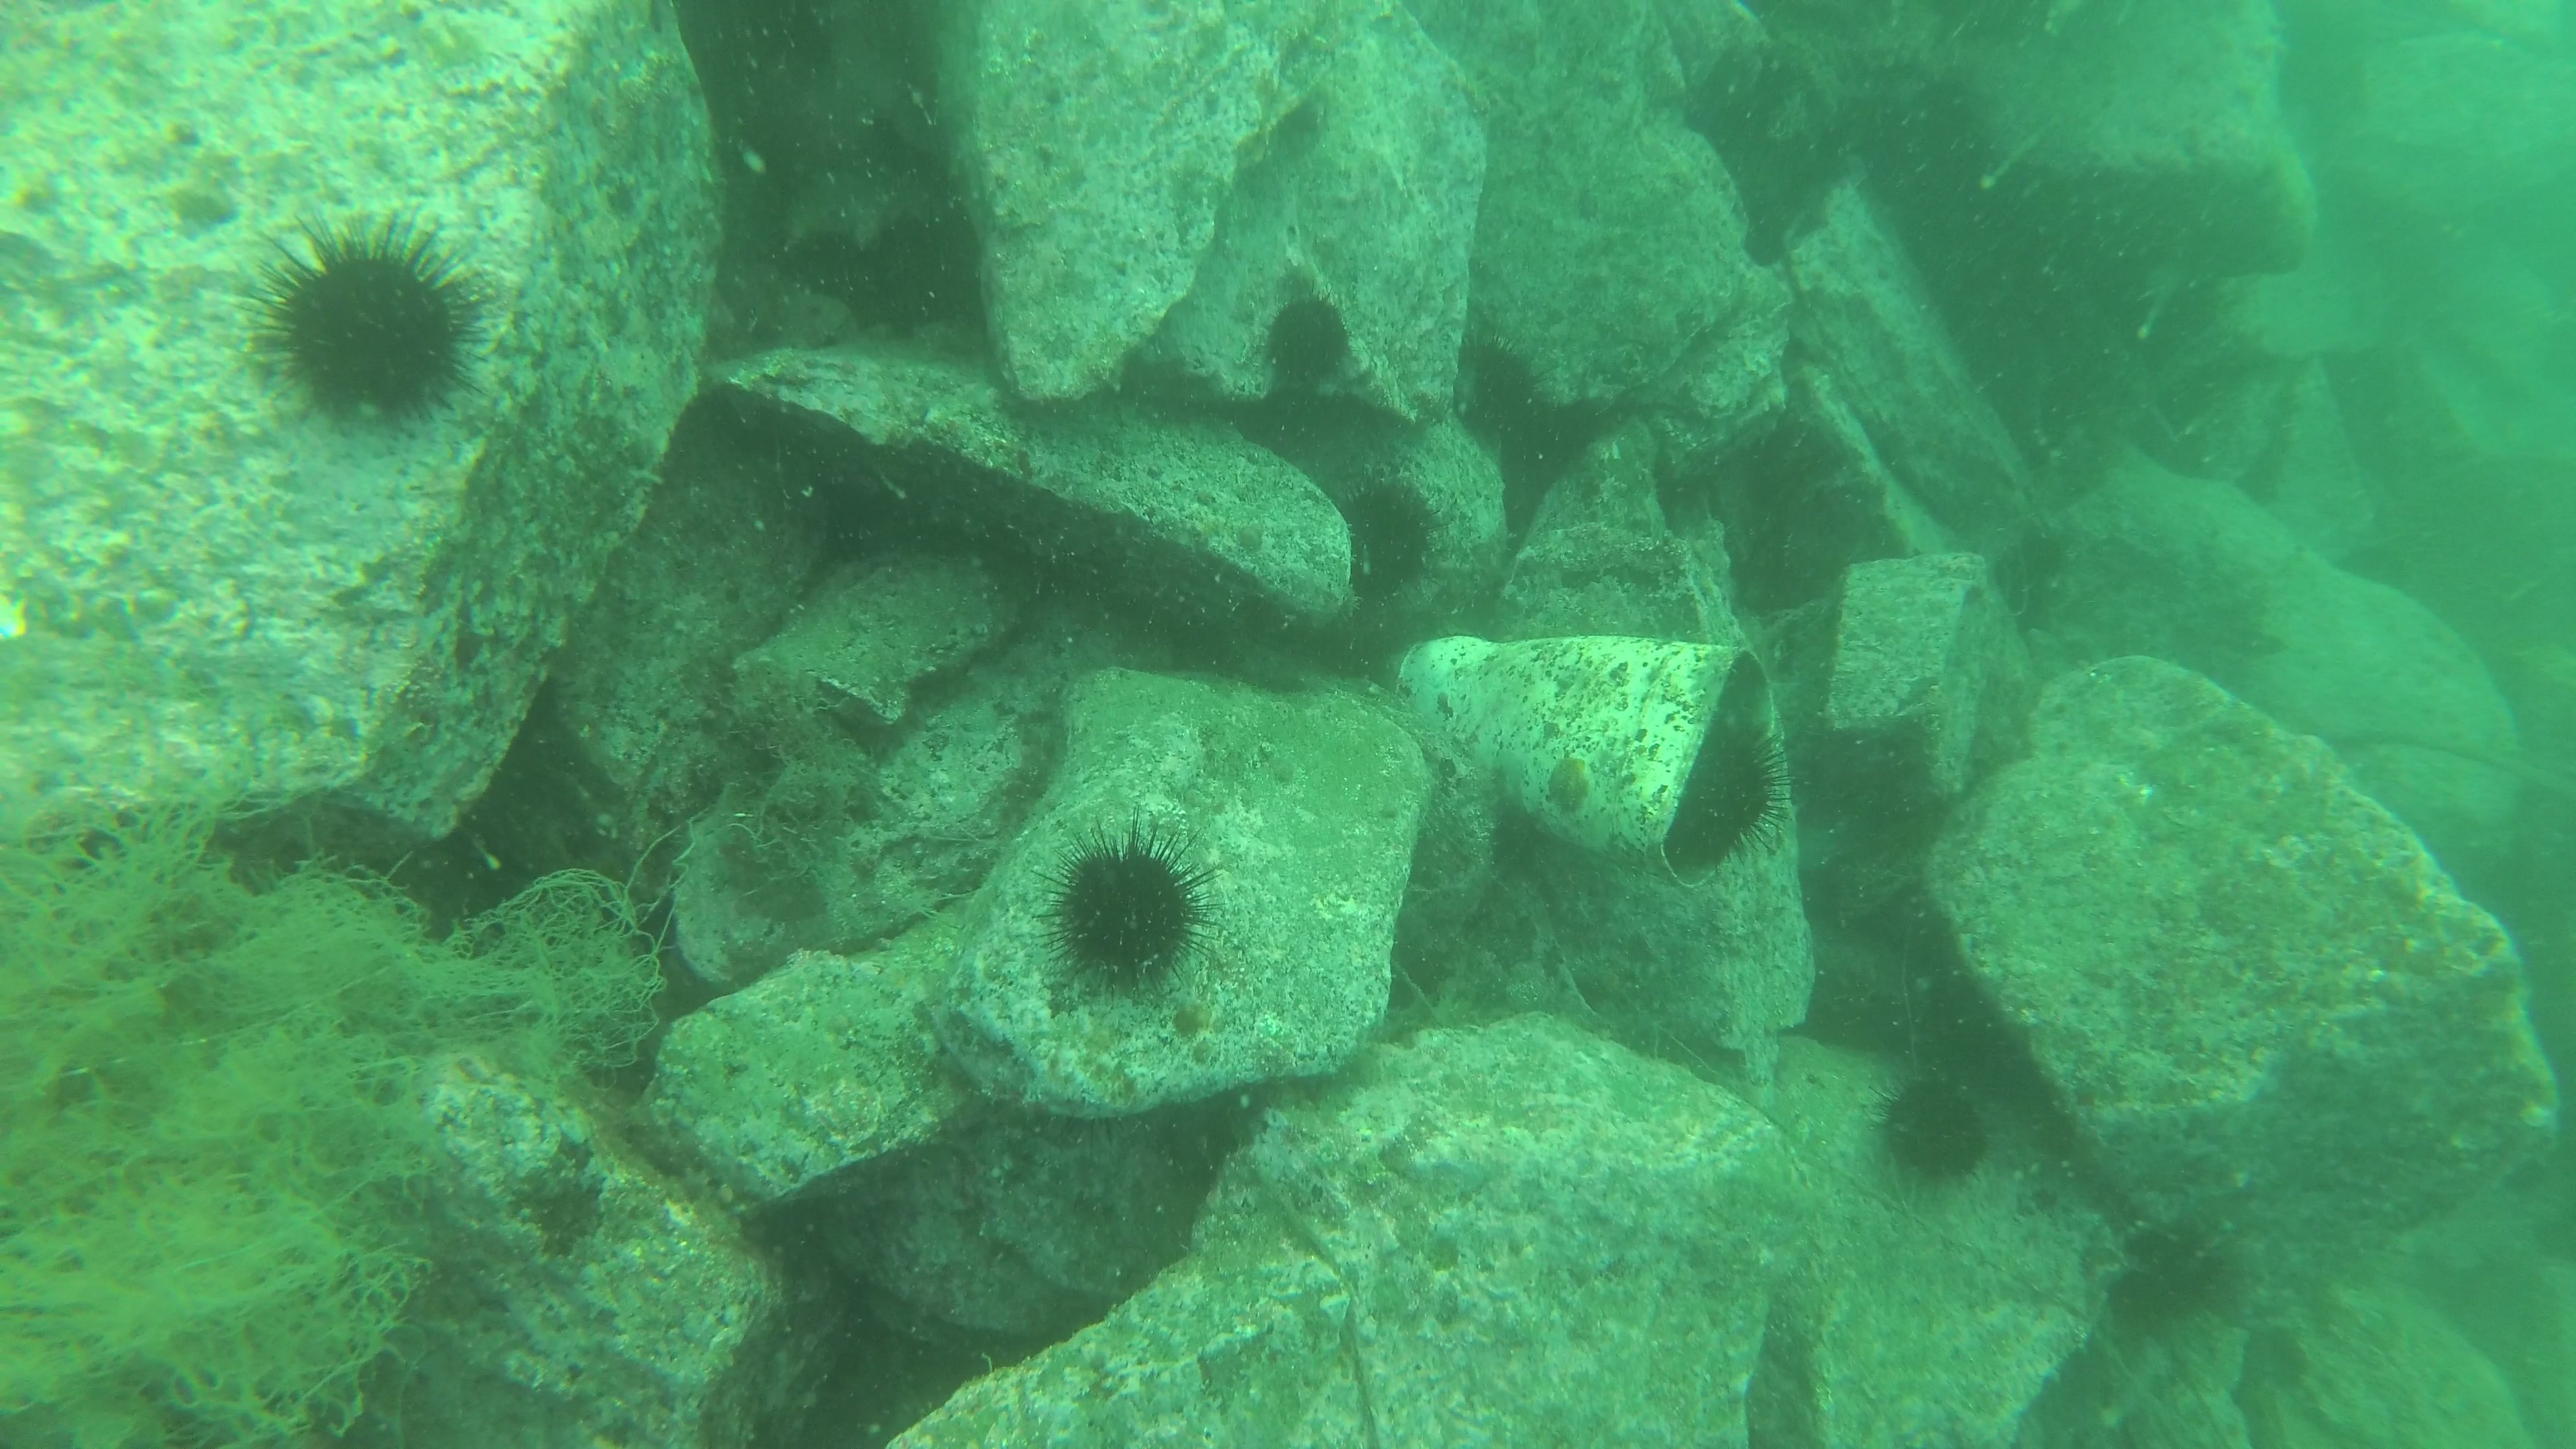echinus: (253, 203, 488, 433), (1039, 819, 1207, 994), (1691, 711, 1790, 863), (1888, 1065, 1997, 1201), (1329, 479, 1454, 591), (1269, 288, 1357, 395)
